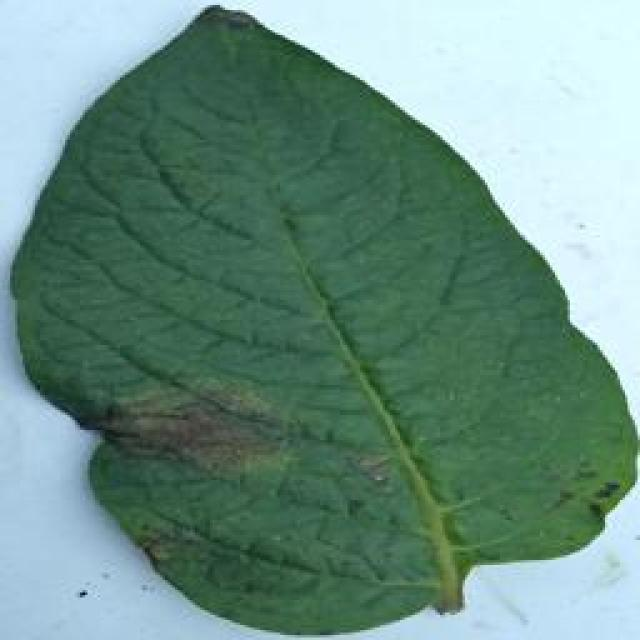Potato_Late_Blight: (12, 11, 622, 626)
